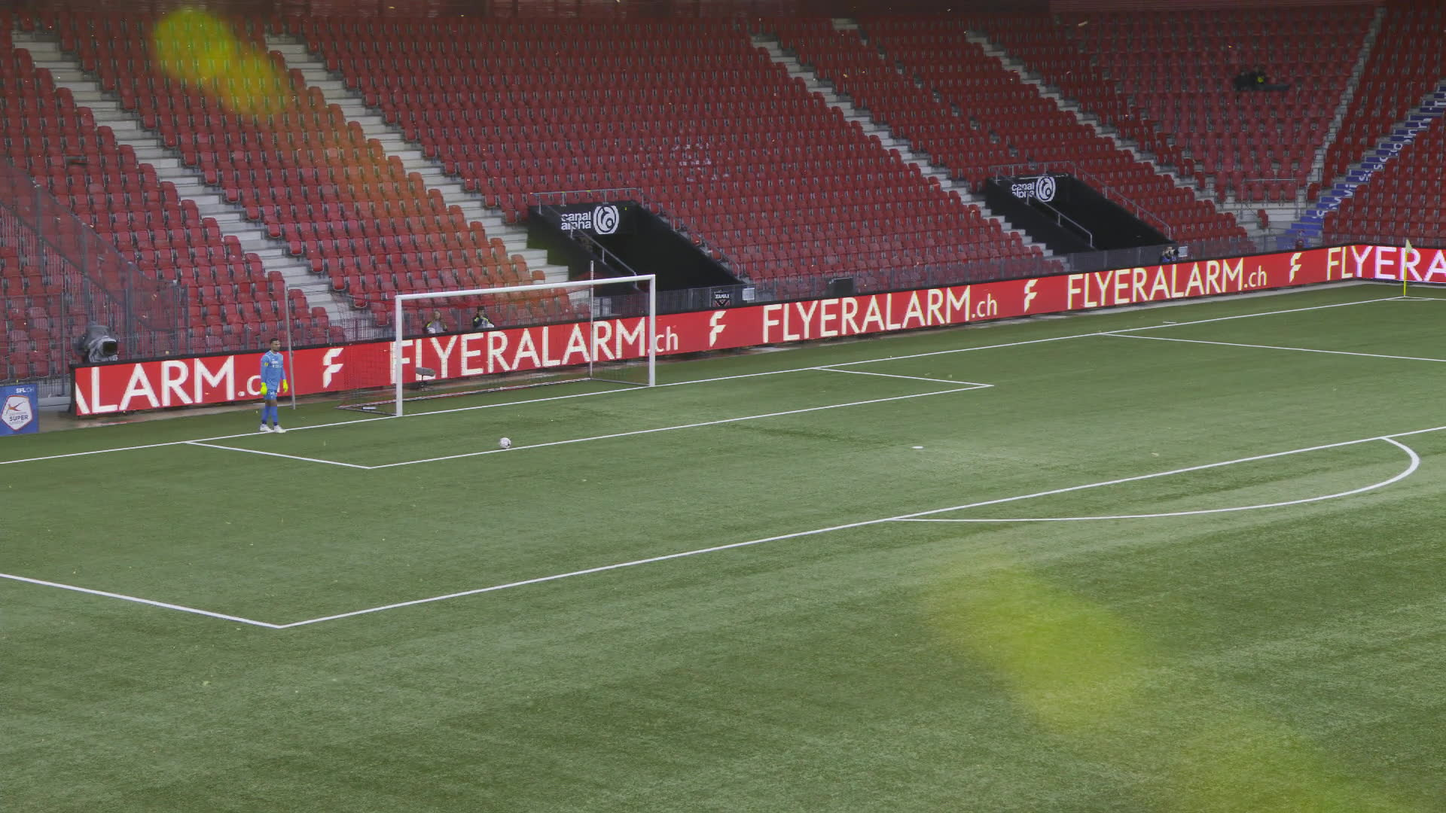ball: (496, 437, 509, 449)
player: (256, 336, 287, 434)
